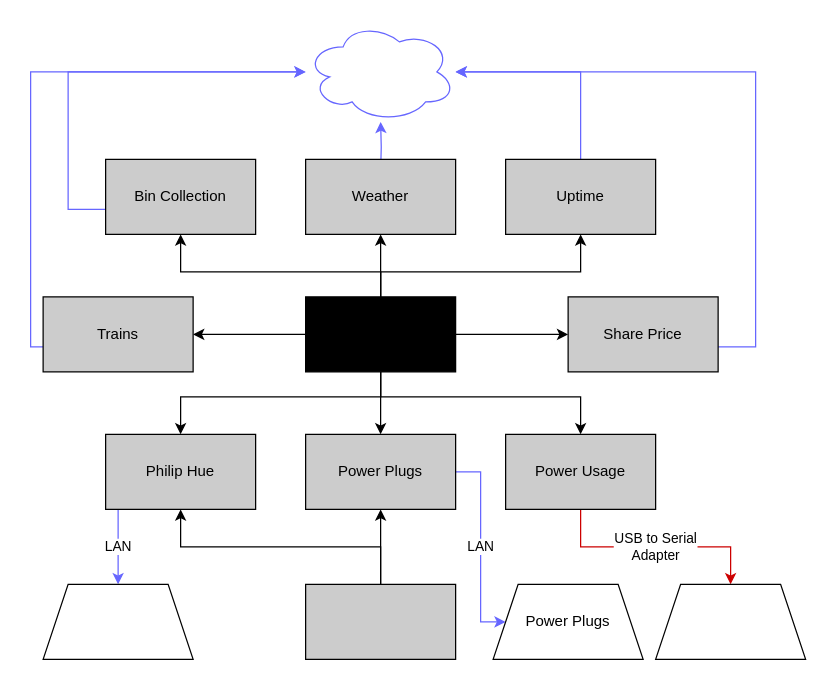
Some shapes in this 828 by 681 pixel diagram are drawn without their labels. Here are the shapes that lost their labels. From the top down, the centre of each, then its label:
At (380,71): "Internet".
At (380,334): "Dashboard".
At (117,621): "Philip Hue Bridge".
At (380,621): "Home Actions".
At (730,621): "CC128 Energy Monitor".
